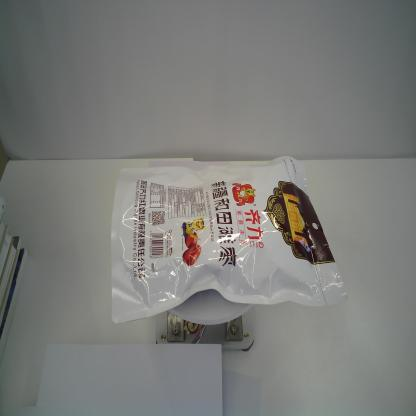Dried Food: (107, 152, 345, 331)
